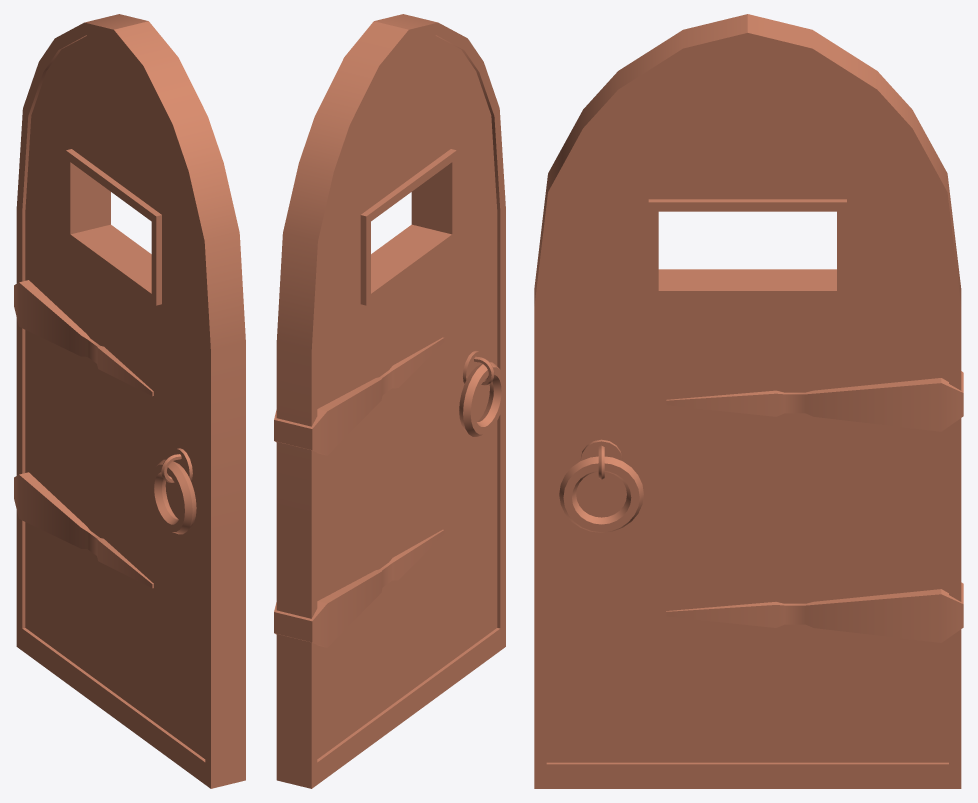
Rendered from Door.fbx.
3 renders of one model, left to right at view 1: azimuth 30°, elevation 25°; view 2: azimuth 150°, elevation 25°; view 3: azimuth 270°, elevation 25°, orthographic. The views are drawn at different scales.
Parts seen in each view (by area): view 1: Door; view 2: Door; view 3: Door.
Part boxes in pixels (x1,y1,x2,y2): Door: [14, 14, 245, 788]; Door: [274, 14, 505, 788]; Door: [534, 14, 963, 788].
Size of the model in its own units: 20.22 by 183 by 93.96.
